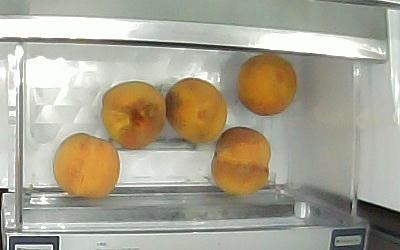peach: (53, 133, 120, 199), (102, 81, 166, 149), (165, 77, 227, 143), (212, 127, 271, 196), (237, 53, 296, 115)
